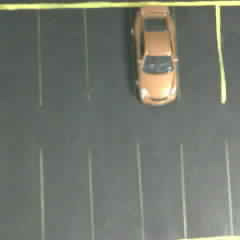Car: (125, 0, 181, 106)
